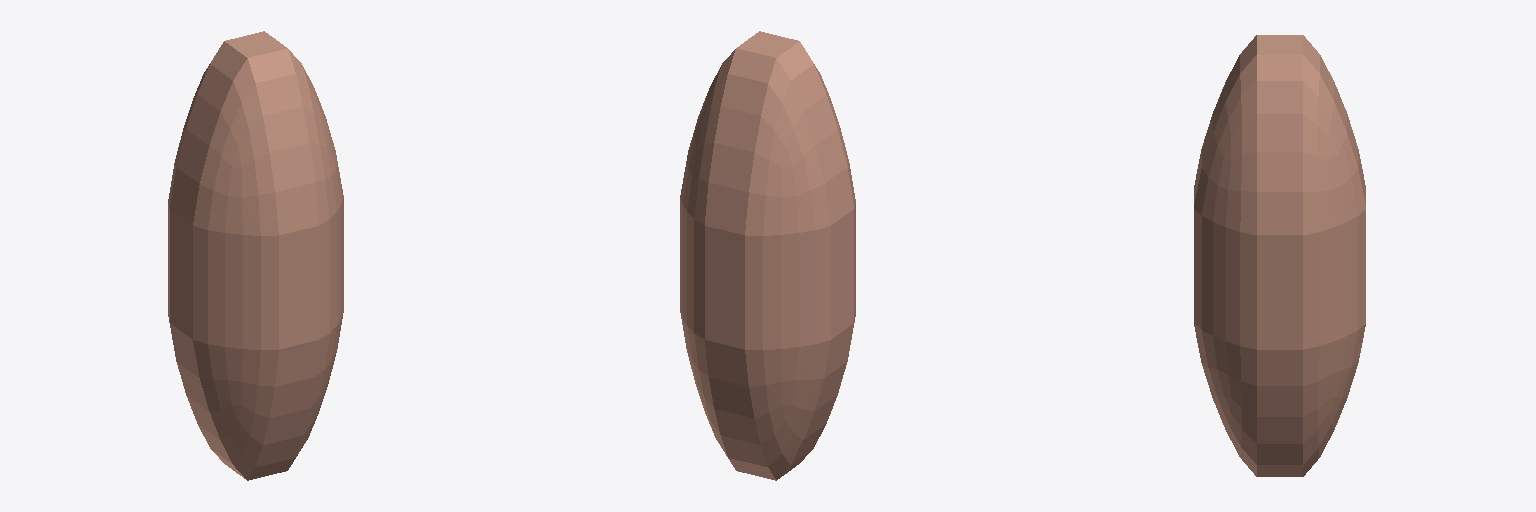
The model's file is StoneColumn.obj.
3 views of the same model, side by side, from view 1: azimuth 30°, elevation 25°; view 2: azimuth 150°, elevation 25°; view 3: azimuth 270°, elevation 25° (orthographic).
Parts seen in each view (by area): view 1: Cube_Cube.001; view 2: Cube_Cube.001; view 3: Cube_Cube.001.
Part boxes in pixels (left/top/right/bottom): Cube_Cube.001: left=168, top=31, right=343, bottom=480; Cube_Cube.001: left=680, top=31, right=855, bottom=480; Cube_Cube.001: left=1194, top=35, right=1365, bottom=476.
Bounding box in the file's own units: 2 × 5.4 × 2.